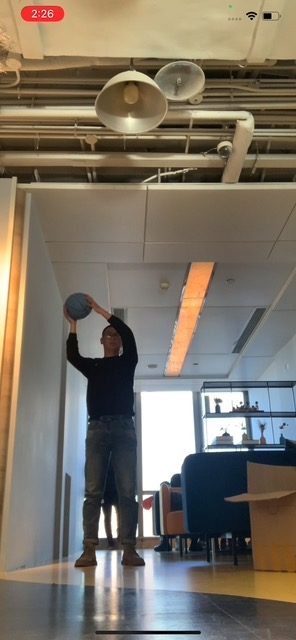ball: (64, 290, 91, 320)
